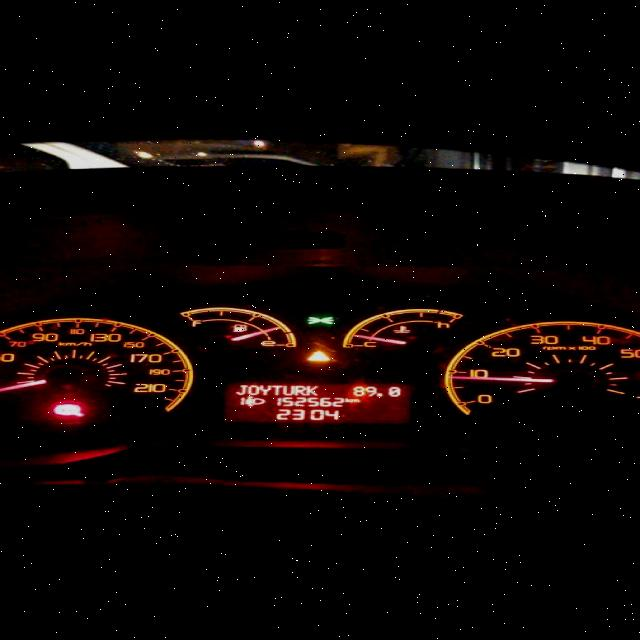odometer: (221, 380, 414, 424)
